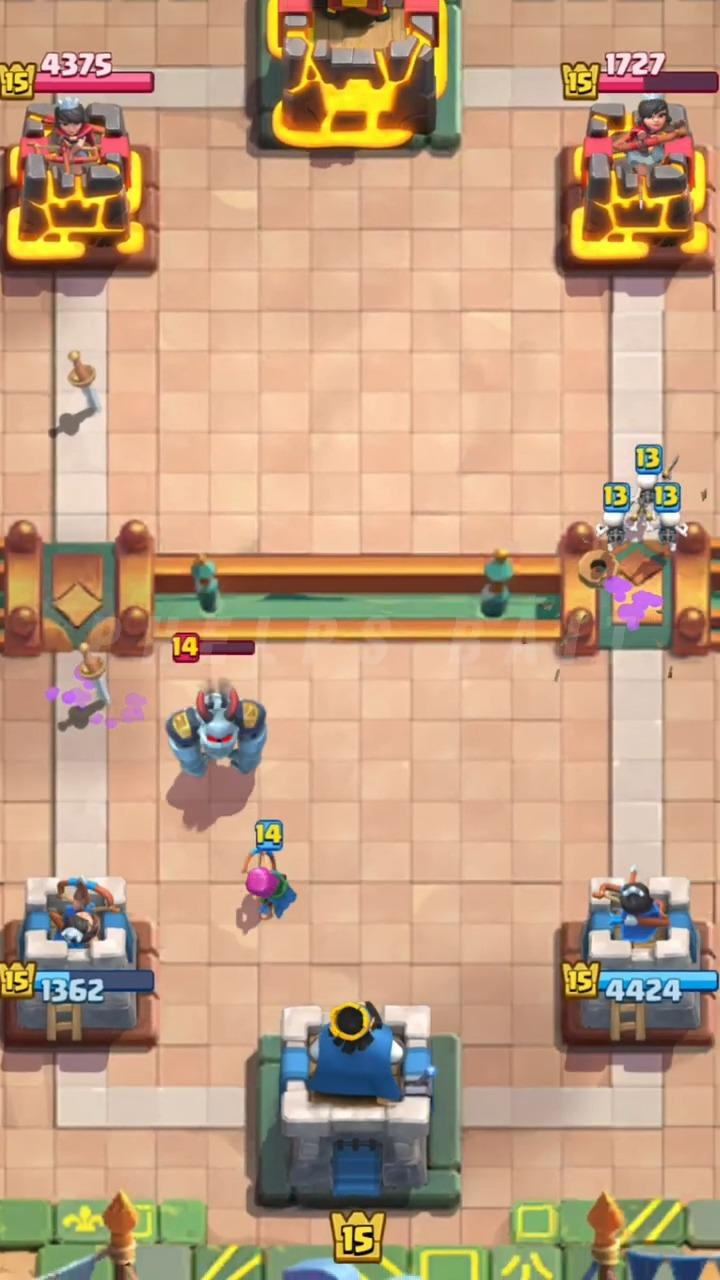archer: (596, 445, 687, 551), (246, 854, 296, 918)
mega minion: (167, 685, 266, 777)
